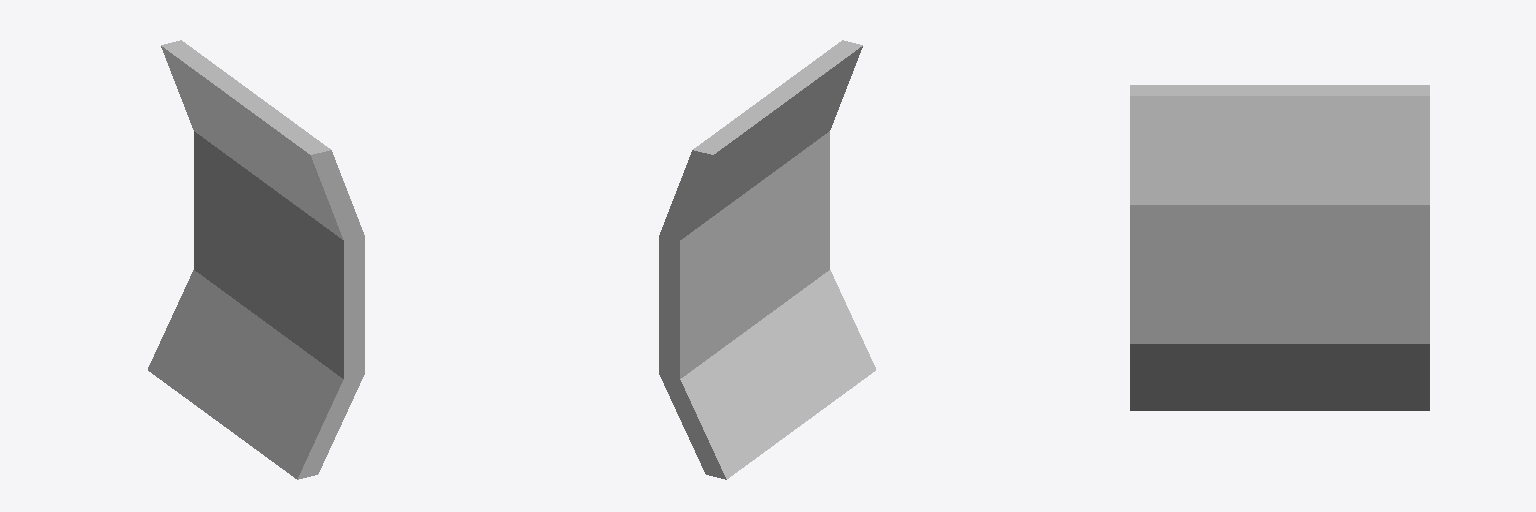
The model's file is siding.obj.
The picture shows the model from 3 angles: view 1: azimuth 30°, elevation 25°; view 2: azimuth 150°, elevation 25°; view 3: azimuth 270°, elevation 25°; orthographic projection.
Visible parts, largest first — view 1: siding; view 2: siding; view 3: siding.
Boxes of the visible parts, box(x1,y1,x2,y2) form: siding: box(148, 40, 364, 479); siding: box(659, 40, 875, 479); siding: box(1130, 85, 1429, 410).
Size of the model in its own units: 3.21 by 14.62 by 12.37.